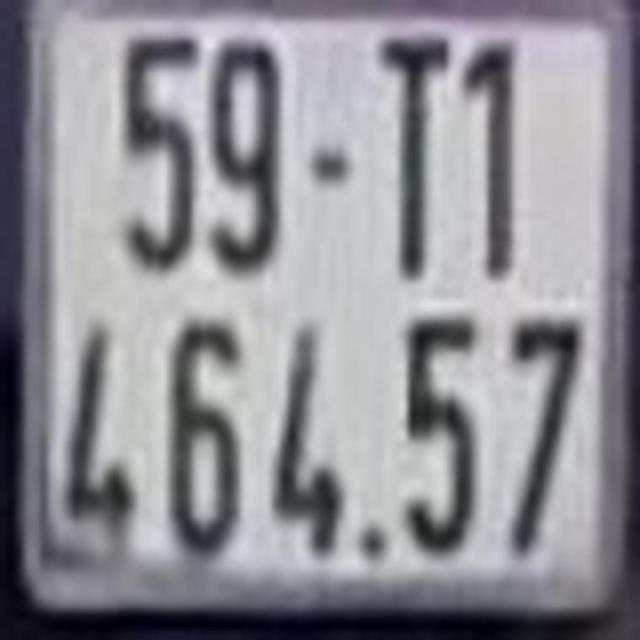1: (462, 37, 517, 274)
4: (60, 322, 136, 543), (283, 316, 344, 559)
5: (407, 312, 484, 555), (124, 28, 190, 270)
6: (170, 316, 241, 554)
7: (514, 320, 577, 560)
9: (206, 36, 285, 271)
T: (377, 31, 449, 286)
